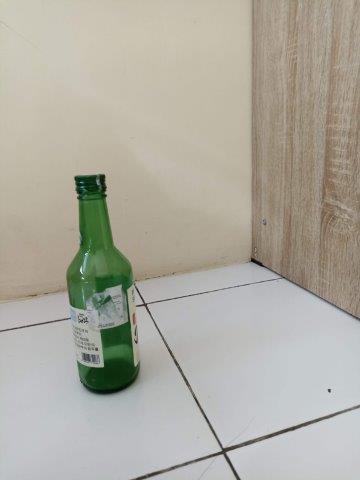botolkaca: (66, 173, 141, 395)
